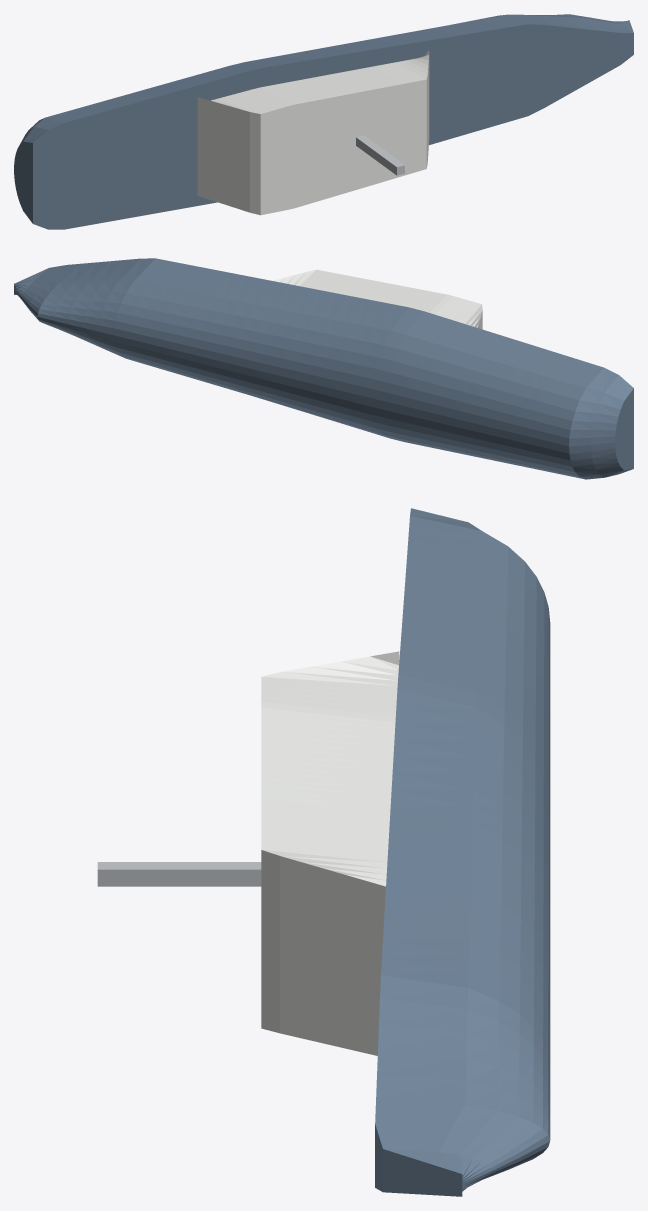
The model's file is pilot-boat-loft.glb.
3 views of the same model, one above another, from view 1: azimuth 30°, elevation 25°; view 2: azimuth 150°, elevation 25°; view 3: azimuth 270°, elevation 25° (orthographic). The views are drawn at different scales.
Visible parts, largest first — view 1: pilot-boat; view 2: pilot-boat; view 3: pilot-boat.
Part boxes in pixels (box(x1,y1,x2,y2)): pilot-boat: box(14, 14, 633, 229); pilot-boat: box(14, 258, 633, 479); pilot-boat: box(97, 508, 550, 1196).
Size of the model in its own units: 1.81 by 0.3576 by 0.5838.
